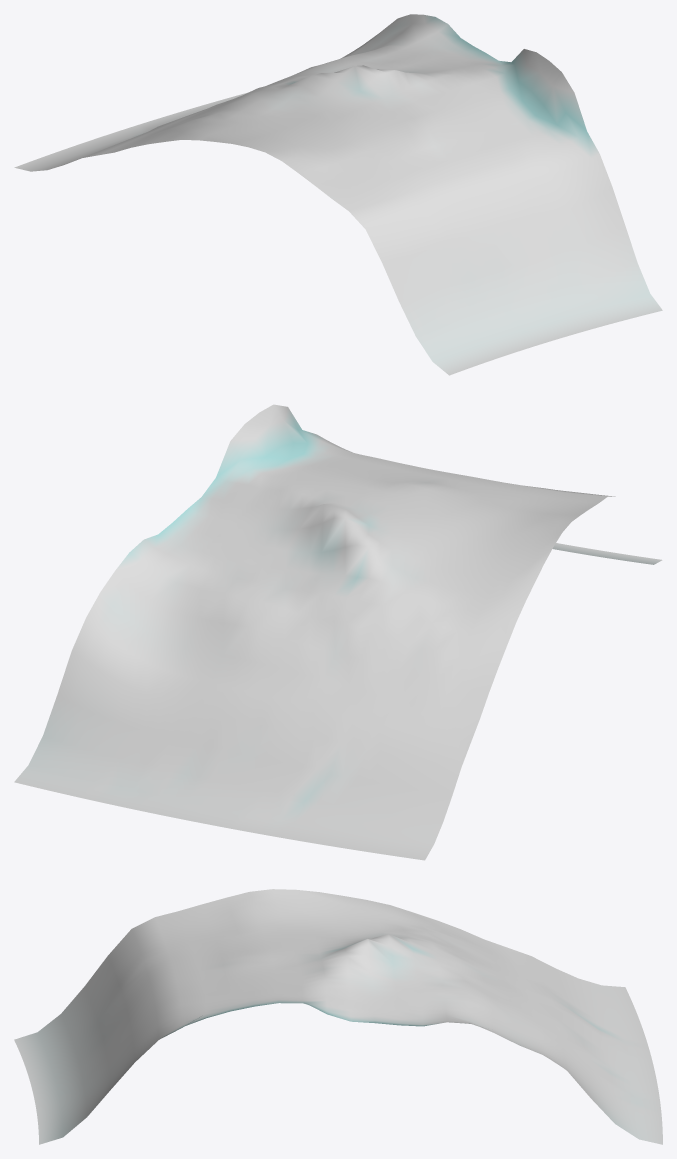
The model's file is near_9.glb.
3 renders of one model, top to bottom at view 1: azimuth 30°, elevation 25°; view 2: azimuth 150°, elevation 25°; view 3: azimuth 270°, elevation 25°, orthographic. The views are drawn at different scales.
Visible parts, largest first — view 1: Mountain; view 2: Mountain; view 3: Mountain.
Part boxes in pixels (x1,y1,x2,y2): Mountain: [14, 14, 662, 375]; Mountain: [14, 404, 662, 860]; Mountain: [14, 889, 662, 1144].
Bounding box in the file's own units: 209 × 97.91 × 364.
